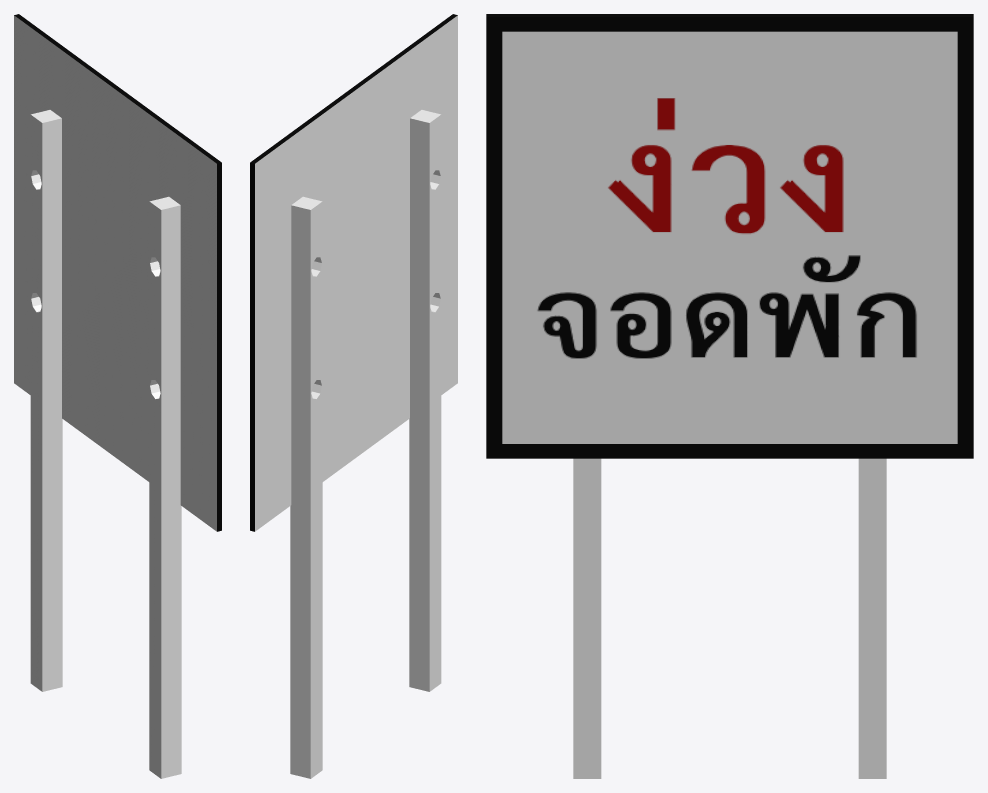
Rendered from warningSleep.glb.
The picture shows the model from 3 angles, left to right: view 1: azimuth 30°, elevation 25°; view 2: azimuth 150°, elevation 25°; view 3: azimuth 270°, elevation 25°; orthographic projection. The views are drawn at different scales.
Parts seen in each view (by area): view 1: Plane, Cube; view 2: Plane, Cube; view 3: Plane, Cube.
Part boxes in pixels (x1,y1,x2,y2): Plane: (14,14,221,531); Cube: (30,110,181,778); Plane: (250,14,457,531); Cube: (290,110,441,778); Plane: (486,14,973,458); Cube: (573,458,886,778).
Size of the model in its own units: 0.534 by 13.24 by 7.65.
2 materials, 1 textured.
